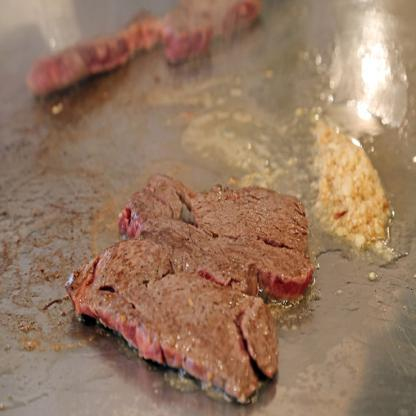Carne: (68, 236, 278, 403), (127, 168, 312, 309)
